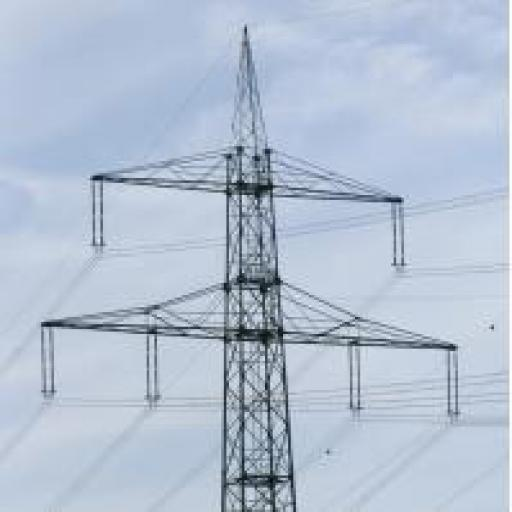ss_2: (36, 20, 466, 510)
